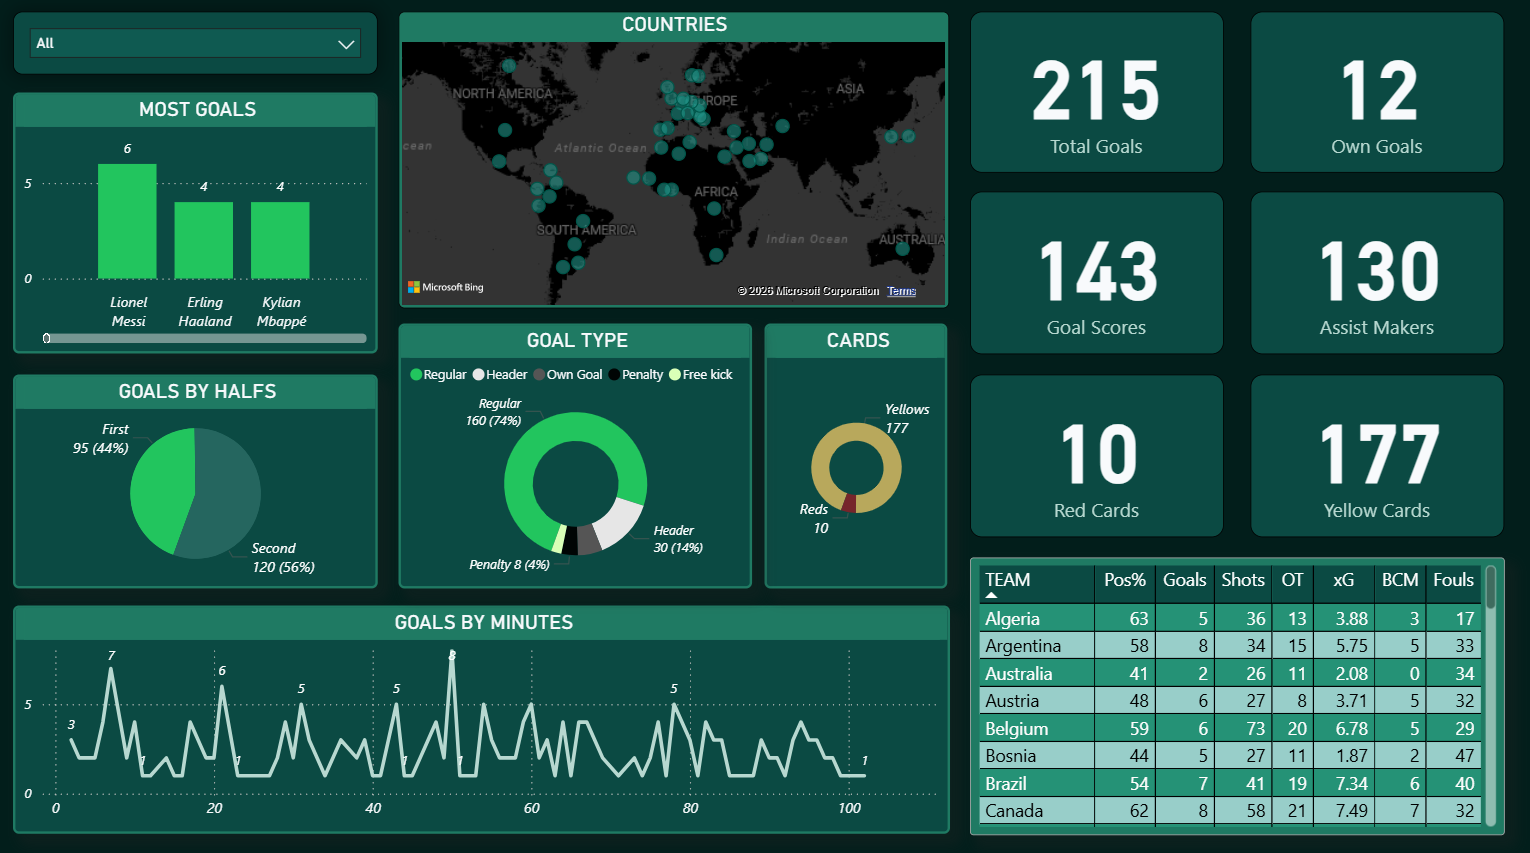

What the dashboard file says about the page in this screenshot:
{"tool":"powerbi","page":{"name":"Overview","canvas":[1280,720],"ordinal":0},"visuals":[{"type":"slicer","title":"TEAM","fields":{"Values":["wc2026 teams.team_name"]},"box":[12.1,13.6,304.4,53],"z":0},{"type":"clusteredColumnChart","title":"MOST GOALS","fields":{"Category":["wc2026 goals.scored_by"],"Y":["CountNonNull(wc2026 goals.goal_no)"]},"box":[12.1,81.8,304.4,218],"z":1000},{"type":"pieChart","title":"GOALS BY HALFS","fields":{"Category":["wc2026 goals.half"],"Y":["CountNonNull(wc2026 goals.goal_no)"]},"box":[12.1,316.5,304.4,178.7],"z":2000},{"type":"card","fields":{"Values":["Count(wc2026 goals.scored_by)"]},"box":[811.6,163.5,212,136.3],"z":3000},{"type":"card","fields":{"Values":["Count(wc2026 goals.assist_by)"]},"box":[1046.3,163.5,212,136.3],"z":4000},{"type":"card","fields":{"Values":["CountNonNull(wc2026 goals.goal_no)"]},"box":[811.6,13.6,212,134.8],"z":5000},{"type":"card","fields":{"Values":["wc2026 goals.owngoals"]},"box":[1046.3,13.6,212,134.8],"z":6000},{"type":"card","fields":{"Values":["CountNonNull(wc2026 yellowcards.yc_id)"]},"box":[1046.3,316.5,212,136.3],"z":7000},{"type":"card","fields":{"Values":["CountNonNull(wc2026 redcards.rc_id)"]},"box":[811.6,316.5,212,136.3],"z":8000},{"type":"lineChart","title":"GOALS BY MINUTES","fields":{"Category":["wc2026 goals.minute"],"Y":["CountNonNull(wc2026 goals.goal_no)"]},"box":[12.1,510.3,782.8,190.8],"z":9000},{"type":"map","title":"COUNTRIES","fields":{"Category":["wc2026 teams.team_name"]},"box":[334.6,13.6,460.3,248.3],"z":10000},{"type":"donutChart","title":"CARDS","fields":{"Y":["CountNonNull(wc2026 yellowcards.yc_id)","CountNonNull(wc2026 redcards.rc_id)"]},"box":[640.5,274.1,152.9,221.1],"z":11000},{"type":"tableEx","title":"Group J","fields":{"Values":["wc2026 teamstats.TEAM","wc2026 teamstats.AVG_POS","Sum(wc2026 teamstats.GOALS)","Sum(wc2026 teamstats.SHOTS)","Sum(wc2026 teamstats.ON_TARGET)","Sum(wc2026 teamstats.xG)","Sum(wc2026 teamstats.BCM)","Sum(wc2026 teamstats.FOULS)"]},"box":[811.6,469.4,446.7,231.7],"z":12000},{"type":"donutChart","title":"GOAL TYPE","fields":{"Y":["CountNonNull(wc2026 goals.goal_no)"],"Category":["wc2026 goals.goal_type"]},"box":[334.6,274.1,295.3,221.1],"z":13000}]}

Visuals, with their boxes in screenshot pixels (x1, y1, x2, y2), scaled from the page's 1280x720 canvas onto the 1530x853 screenshot:
"TEAM" slicer: 14 16 378 79
"MOST GOALS" clusteredColumnChart: 14 97 378 355
"GOALS BY HALFS" pieChart: 14 375 378 587
card - Count(wc2026 goals.scored_by): 970 194 1224 355
card - Count(wc2026 goals.assist_by): 1251 194 1504 355
card - CountNonNull(wc2026 goals.goal_no): 970 16 1224 176
card - wc2026 goals.owngoals: 1251 16 1504 176
card - CountNonNull(wc2026 yellowcards.yc_id): 1251 375 1504 536
card - CountNonNull(wc2026 redcards.rc_id): 970 375 1224 536
"GOALS BY MINUTES" lineChart: 14 605 950 831
"COUNTRIES" map: 400 16 950 310
"CARDS" donutChart: 766 325 948 587
"Group J" tableEx: 970 556 1504 831
"GOAL TYPE" donutChart: 400 325 753 587
